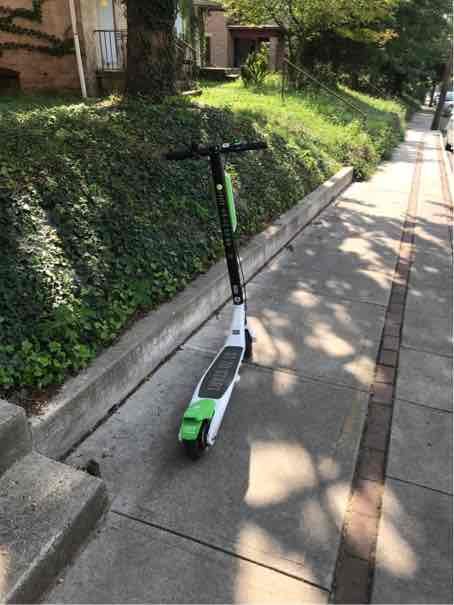scooter: (159, 137, 277, 463)
